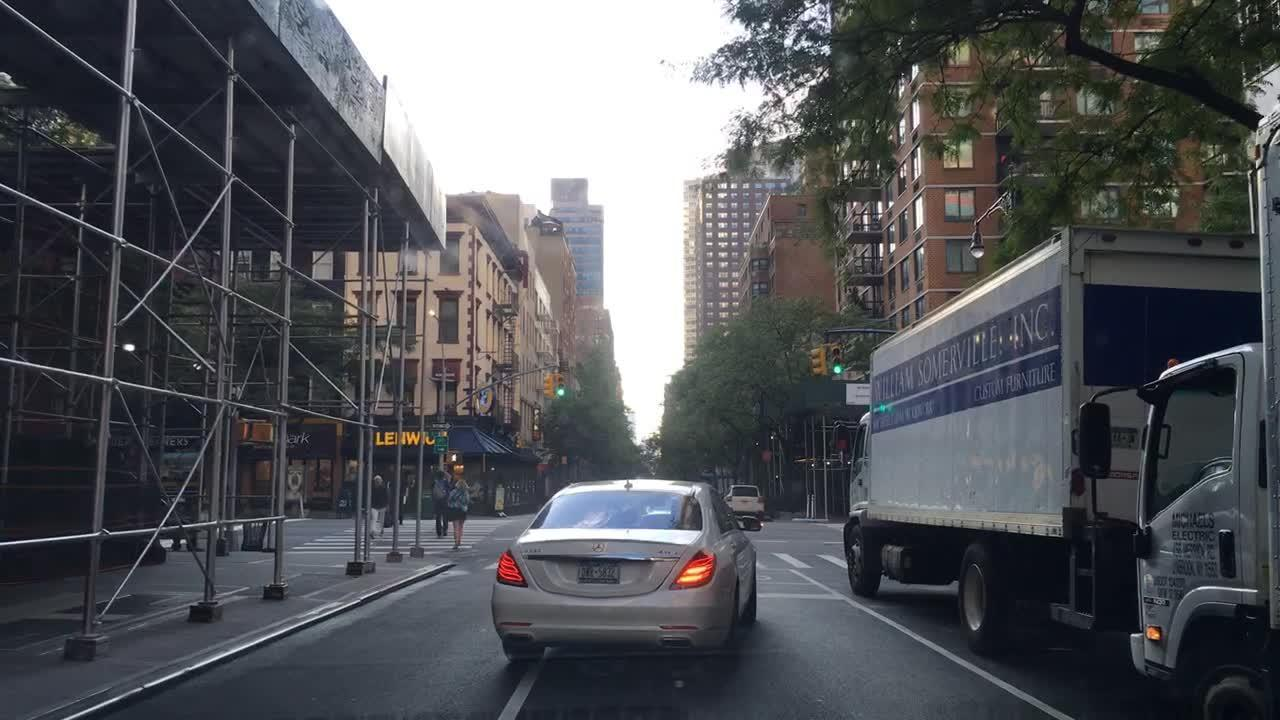Mercedes: (583, 537, 614, 556)
